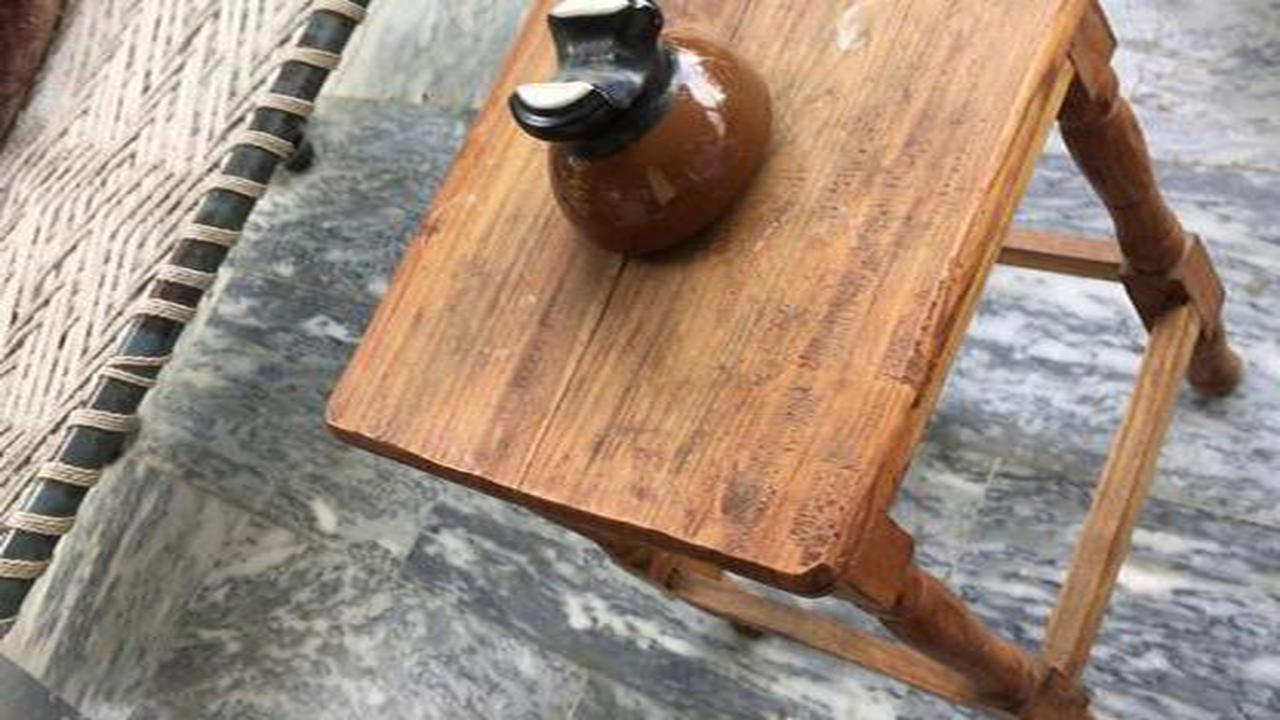insulator_pin: (496, 1, 788, 271)
